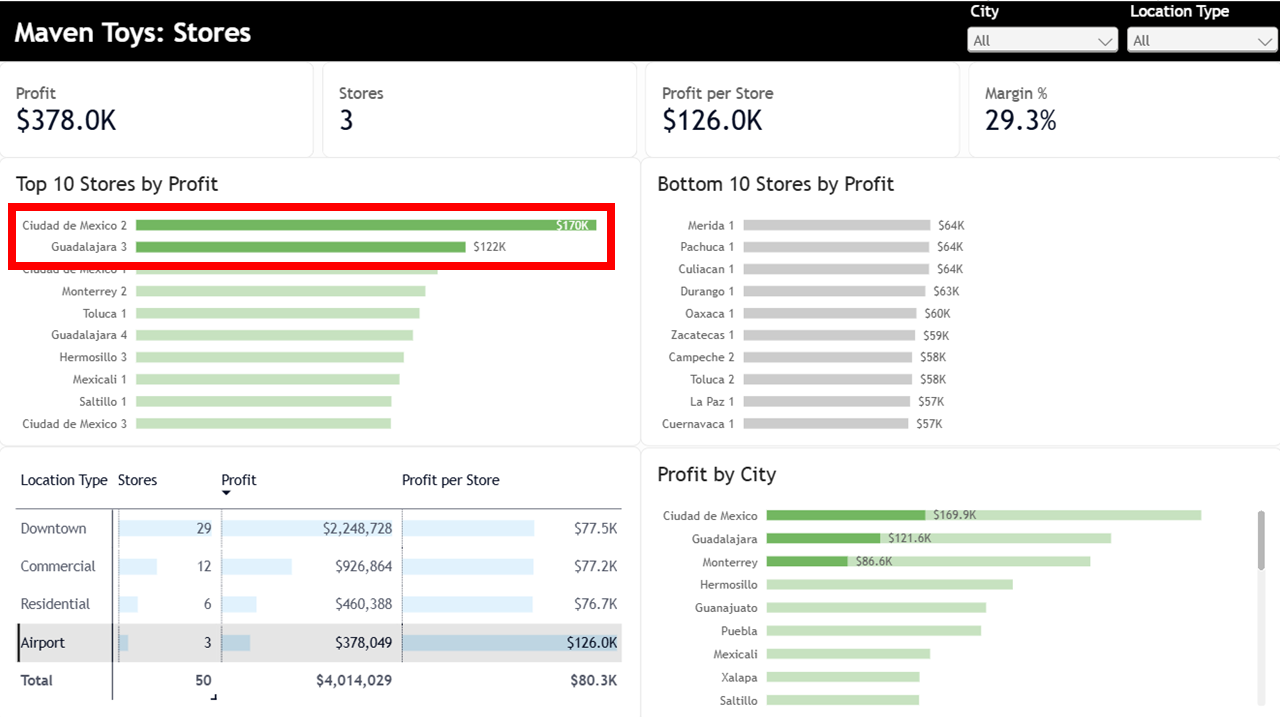

Layout of this report page (visuals, bound fields, positions):
{"tool":"powerbi","page":{"name":"Stores","canvas":[1280,720],"ordinal":1},"visuals":[{"type":"shape","box":[0,0,1280,60],"z":0,"group":"g1"},{"type":"cardVisual","fields":{"Data":["_measures.Profit","_measures.Stores","_measures.Profit per Store","_measures.Margin %"]},"box":[0,60,1280,96],"z":0},{"type":"group","id":"g1","title":"Group 1","box":[0,0,1280,64],"z":1000},{"type":"textbox","box":[16,16,624,32],"z":1000,"group":"g1"},{"type":"slicer","fields":{"Values":["stores.Store_City"]},"box":[960,0,160,64],"z":2000,"group":"g1"},{"type":"clusteredBarChart","title":"Top 10 Stores by Profit","fields":{"Category":["stores.Store_Name"],"Y":["_measures.Profit"]},"box":[0,156,640,288],"z":2000},{"type":"slicer","fields":{"Values":["stores.Store_Location"]},"box":[1120,0,160,64],"z":3000,"group":"g1"},{"type":"clusteredBarChart","title":"Bottom 10 Stores by Profit","fields":{"Category":["stores.Store_Name"],"Y":["_measures.Profit"]},"box":[640,156,640,288],"z":3000},{"type":"pivotTable","title":"Profit by Location Type: Total and Per Store","fields":{"Rows":["stores.Store_Location"],"Values":["select","_measures.Stores","_measures.Profit","_measures.Profit per Store"]},"box":[0,444,640,275],"z":4000},{"type":"clusteredBarChart","title":"Profit by City","fields":{"Category":["stores.Store_City"],"Y":["_measures.Profit"]},"box":[640,445,640,275],"z":5000}]}

Visuals, with their boxes in screenshot pixels (x1, y1, x2, y2), scaled from the page's 1280x720 canvas onto the 1280x720 screenshot:
shape: detection(0, 0, 1279, 60)
cardVisual - _measures.Profit x _measures.Stores: detection(0, 60, 1279, 156)
"Group 1" group: detection(0, 0, 1279, 64)
textbox: detection(16, 16, 640, 48)
slicer - stores.Store_City: detection(960, 0, 1120, 64)
"Top 10 Stores by Profit" clusteredBarChart: detection(0, 156, 640, 444)
slicer - stores.Store_Location: detection(1120, 0, 1279, 64)
"Bottom 10 Stores by Profit" clusteredBarChart: detection(640, 156, 1279, 444)
"Profit by Location Type: Total and Per Store" pivotTable: detection(0, 444, 640, 719)
"Profit by City" clusteredBarChart: detection(640, 445, 1279, 719)
